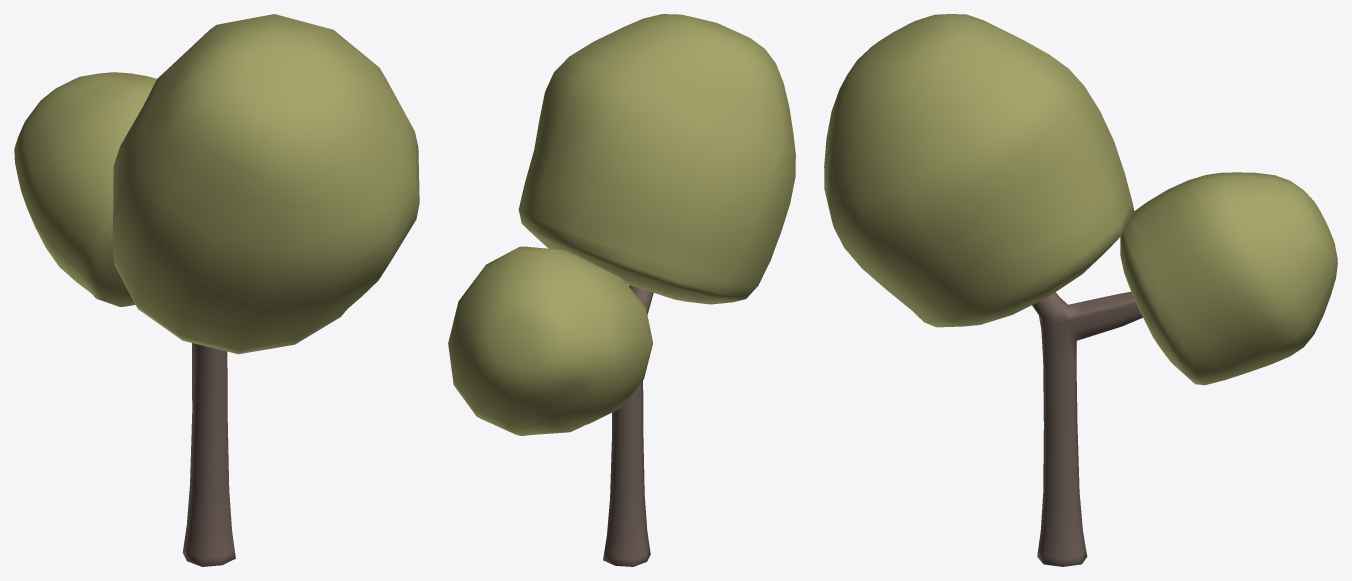
Rendered from Tree_Double_Yellow.fbx.
3 renders of one model, left to right at view 1: azimuth 30°, elevation 25°; view 2: azimuth 150°, elevation 25°; view 3: azimuth 270°, elevation 25°, orthographic. The views are drawn at different scales.
Visible parts, largest first — view 1: Leaves, Leaves1, Trunk; view 2: Leaves, Leaves1, Trunk; view 3: Leaves, Leaves1, Trunk.
Part boxes in pixels (bbox=[...]): Leaves: bbox=[112, 14, 419, 354]; Leaves1: bbox=[14, 72, 156, 306]; Trunk: bbox=[182, 343, 235, 566]; Leaves: bbox=[518, 14, 795, 304]; Leaves1: bbox=[448, 246, 652, 435]; Trunk: bbox=[603, 285, 653, 566]; Leaves: bbox=[824, 14, 1134, 327]; Leaves1: bbox=[1120, 172, 1337, 385]; Trunk: bbox=[1032, 292, 1142, 566].
Size of the model in its own units: 0.798 by 1.68 by 1.47.
